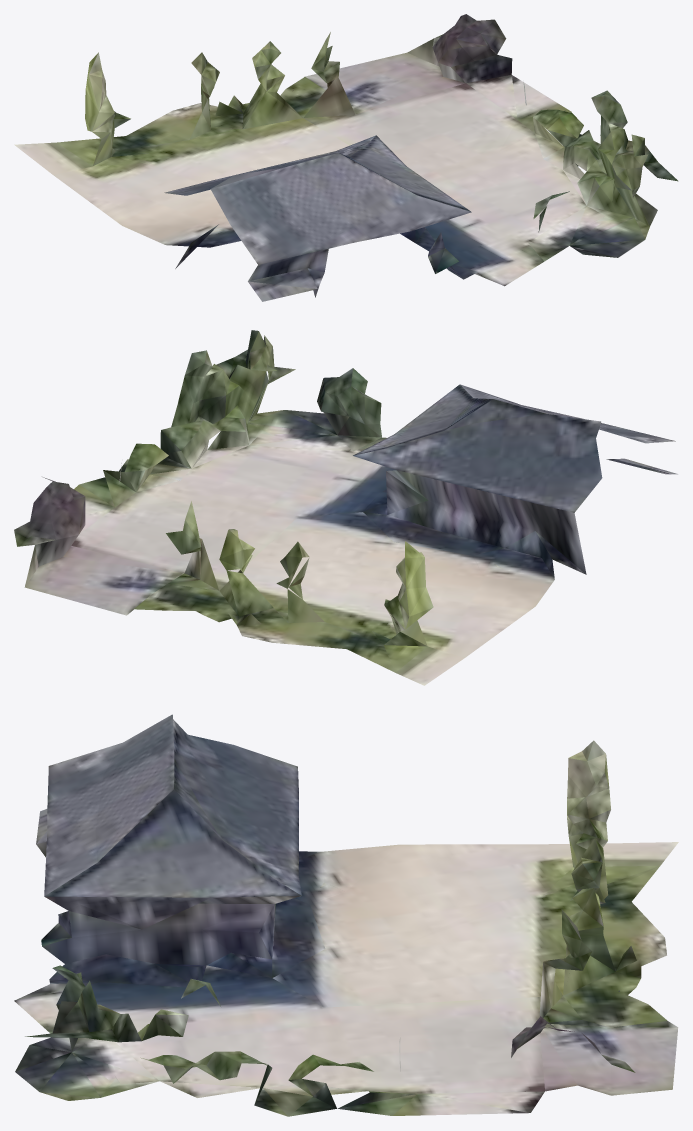
The model's file is Tile_+001_+007_L17_00.glb.
3 views of the same model, one above another, from view 1: azimuth 30°, elevation 25°; view 2: azimuth 150°, elevation 25°; view 3: azimuth 270°, elevation 25° (orthographic). The views are drawn at different scales.
Parts seen in each view (by area): view 1: rtc; view 2: rtc; view 3: rtc.
Part boxes in pixels (x1,y1,x2,y2): rtc: [14, 14, 678, 301]; rtc: [14, 330, 677, 685]; rtc: [14, 714, 678, 1116].
Size of the model in its own units: 60.08 by 15.01 by 60.06.
1 material, 1 textured.
